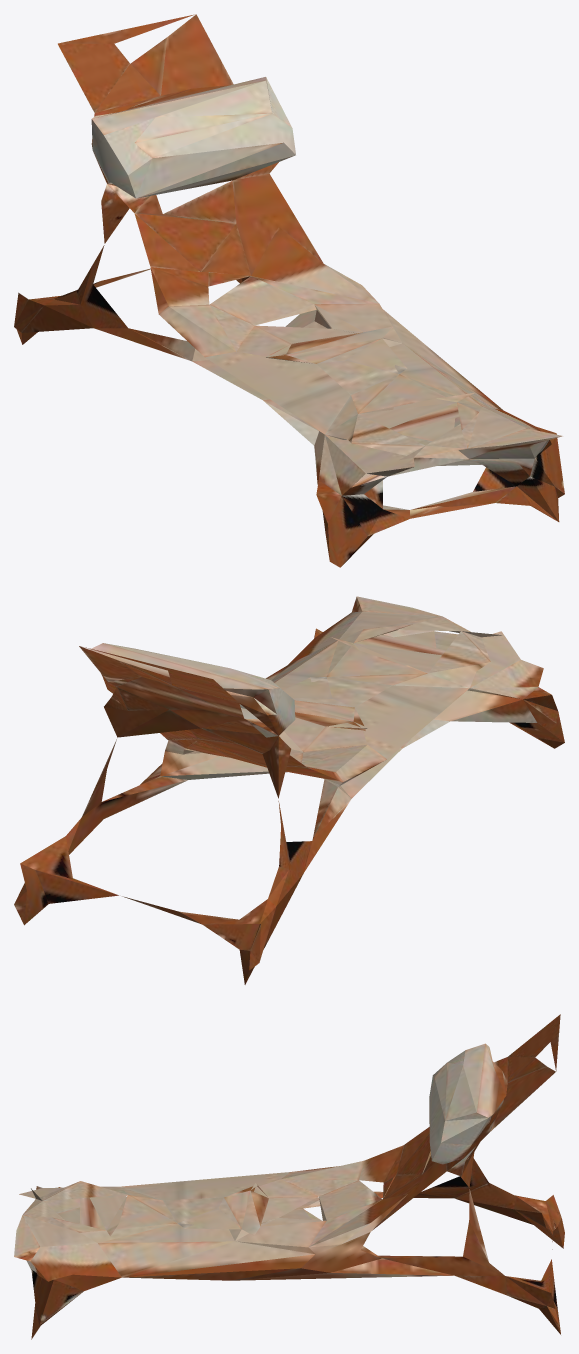
File: sun_lounger_low.glb
3 renders of one model, top to bottom at view 1: azimuth 30°, elevation 25°; view 2: azimuth 150°, elevation 25°; view 3: azimuth 270°, elevation 25°, orthographic. The views are drawn at different scales.
Visible parts, largest first — view 1: output_unwrapped; view 2: output_unwrapped; view 3: output_unwrapped.
Boxes of the visible parts, x1,y1,x2,y2 form: output_unwrapped: (14, 14, 564, 567); output_unwrapped: (14, 596, 564, 984); output_unwrapped: (14, 1014, 564, 1339).
Bounding box in the file's own units: 0.8595 × 0.9955 × 2.
Materials: 1 (1 with a texture image).
